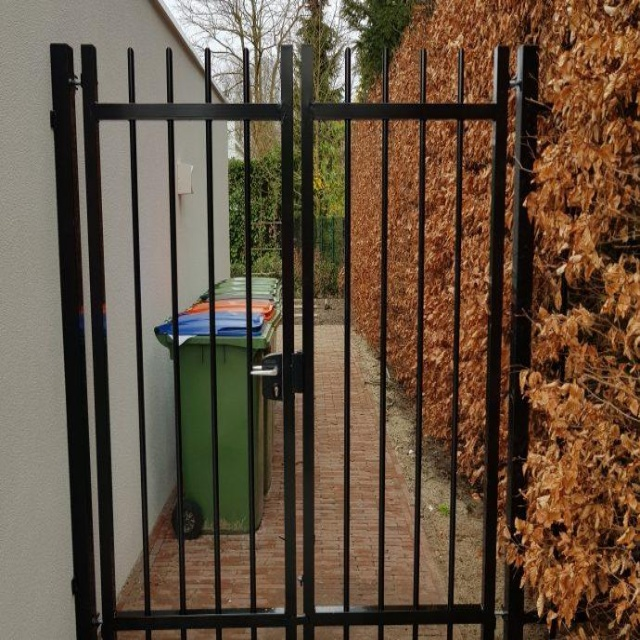obstacle: (3, 21, 640, 508)
